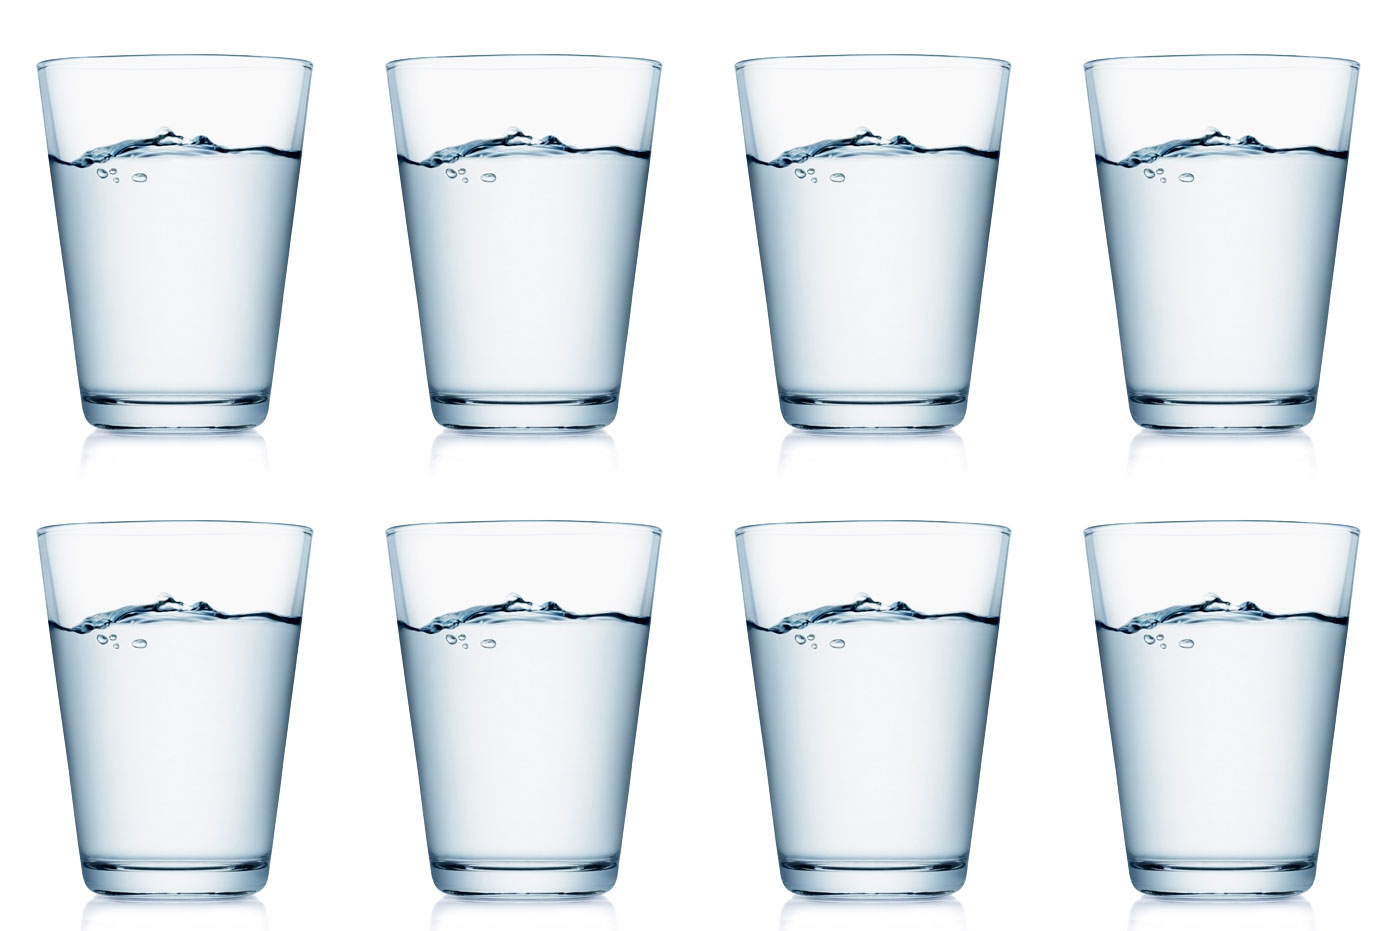glass of water: (363, 35, 670, 440)
